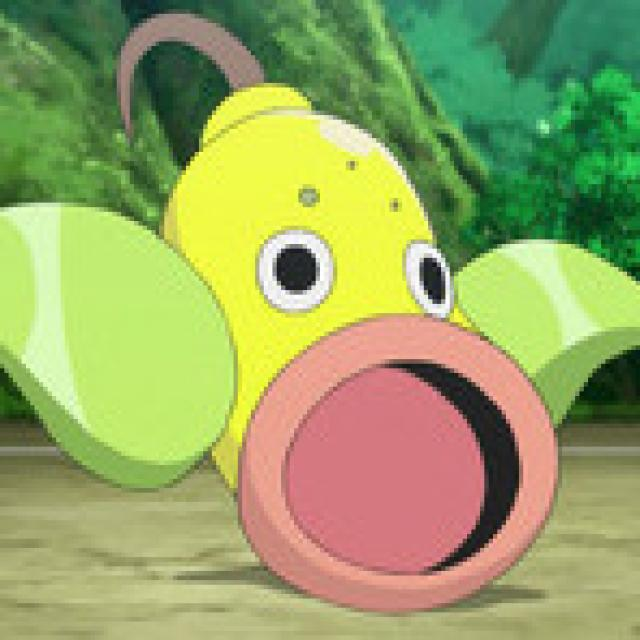Weepinbell: (147, 76, 565, 612)
